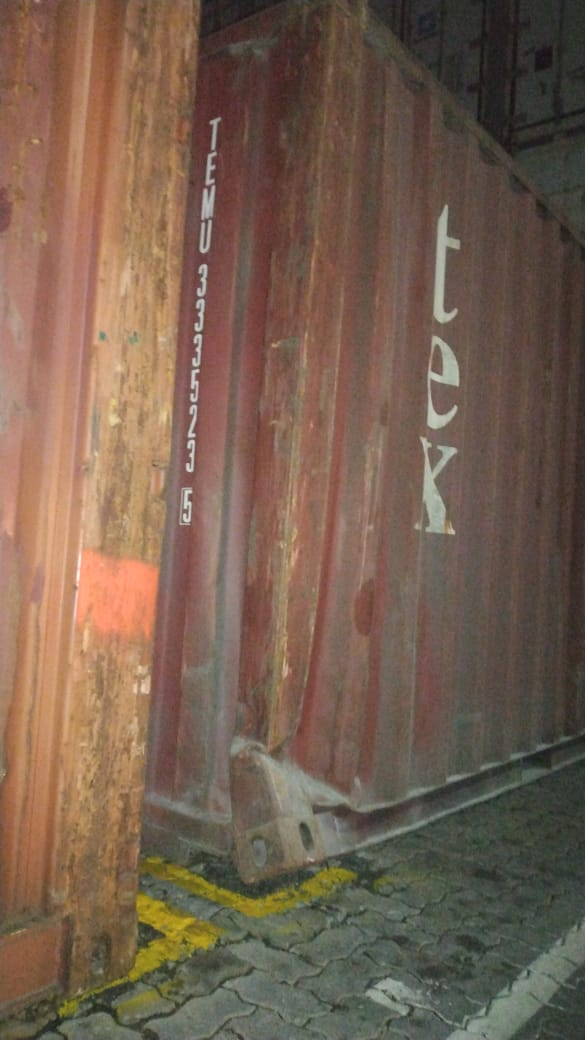moderate: (214, 663, 367, 851)
